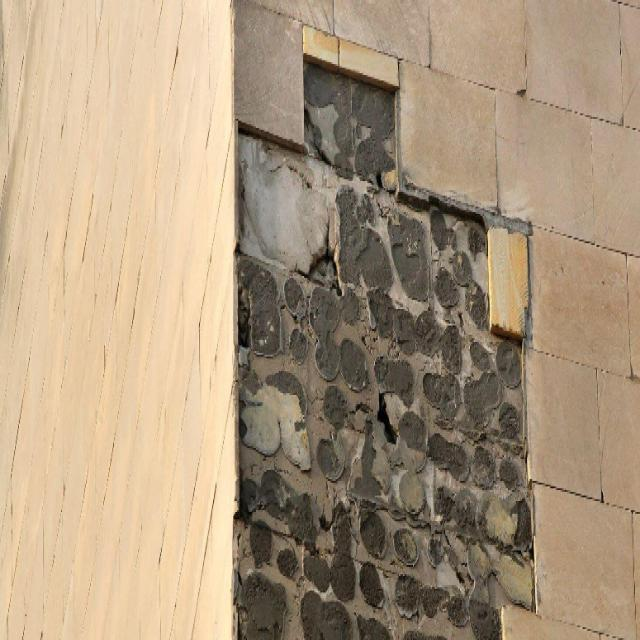tile: (234, 53, 537, 640)
